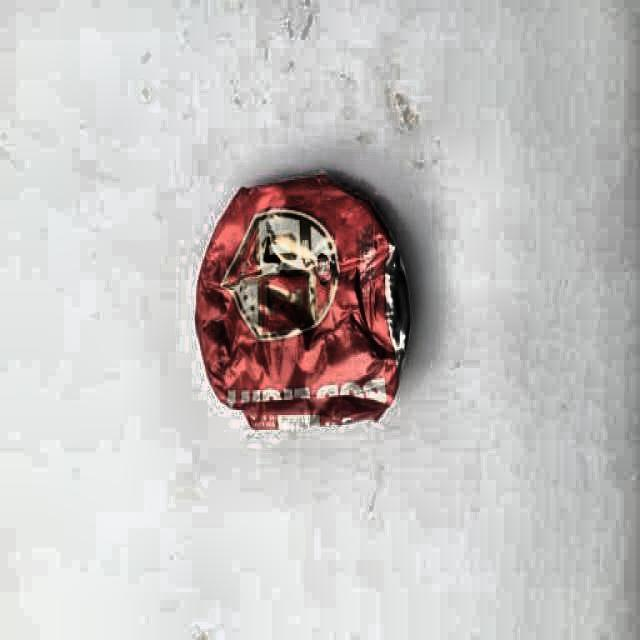metal: (194, 175, 412, 432)
